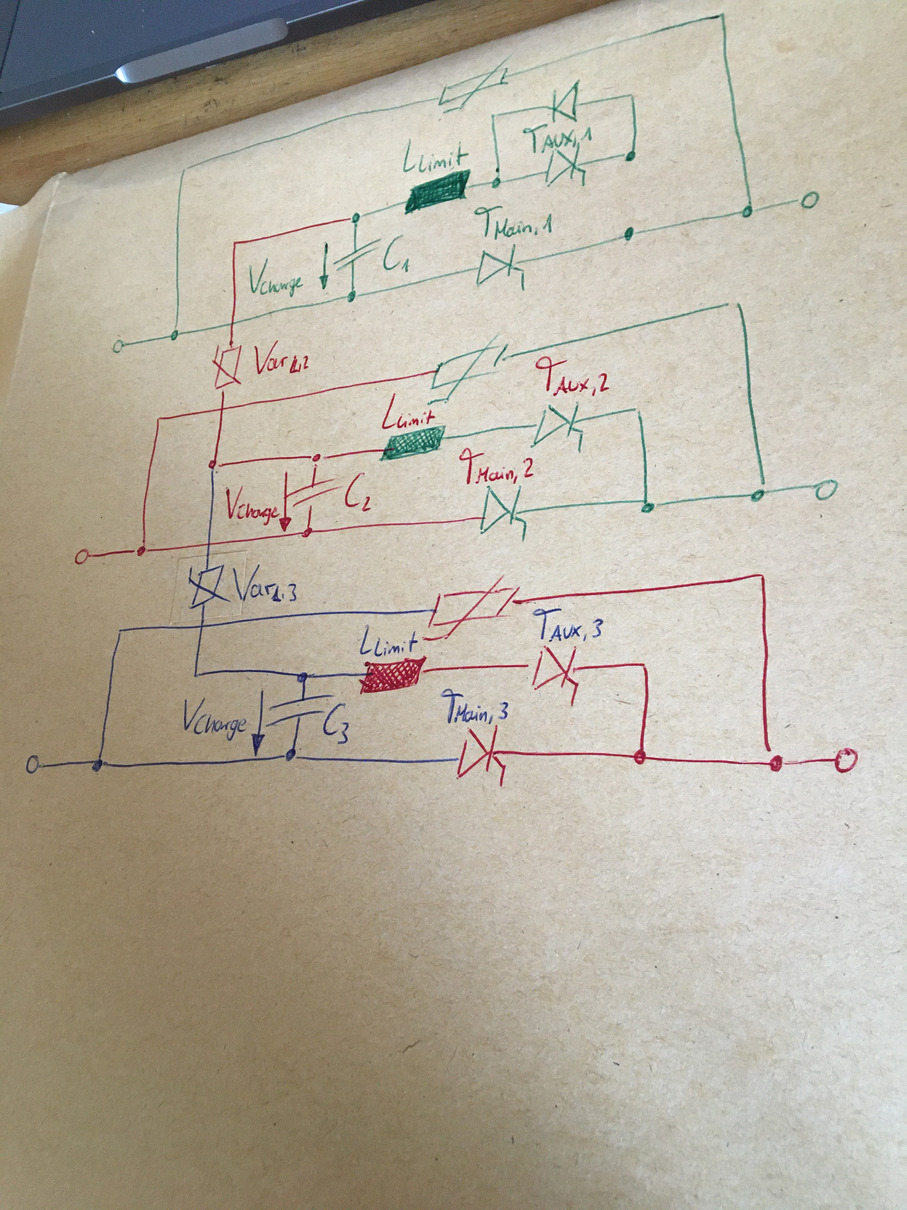capacitor.unpolarized: (265, 691, 334, 729), (332, 238, 382, 272), (287, 478, 340, 507)
crossover: (197, 621, 208, 632), (217, 404, 227, 414), (204, 539, 214, 549), (227, 319, 238, 328)
diode: (549, 78, 579, 124)
inductor: (403, 168, 472, 216), (358, 655, 428, 696), (379, 424, 447, 463)
junction: (763, 747, 787, 773), (750, 481, 769, 505), (638, 495, 657, 515), (726, 297, 747, 314), (632, 746, 649, 766), (740, 202, 757, 220), (309, 451, 328, 467), (622, 147, 639, 164), (132, 543, 150, 558), (90, 757, 106, 773), (207, 457, 224, 472), (168, 325, 182, 343), (283, 747, 299, 762), (490, 174, 503, 192), (640, 658, 654, 674), (299, 525, 315, 539), (346, 288, 359, 305), (348, 210, 362, 225), (756, 568, 770, 582), (631, 403, 645, 417), (296, 670, 311, 683), (716, 9, 729, 22), (180, 164, 192, 176), (626, 90, 638, 102), (489, 109, 501, 121), (191, 669, 202, 680), (230, 237, 240, 248), (154, 414, 165, 424), (116, 625, 126, 635)
terminal: (831, 746, 860, 776), (812, 478, 840, 502), (794, 189, 821, 211), (24, 753, 42, 776), (73, 547, 91, 566), (111, 338, 127, 355)
text: (533, 354, 612, 399), (230, 561, 301, 607), (180, 695, 248, 743), (473, 203, 555, 242), (457, 446, 536, 485), (531, 605, 605, 644), (439, 686, 510, 726), (223, 482, 282, 528), (246, 256, 306, 299), (400, 137, 469, 174), (522, 122, 593, 156), (250, 339, 312, 376), (357, 623, 419, 658), (380, 391, 436, 429), (342, 470, 375, 514), (321, 701, 351, 746), (382, 233, 413, 275)
thyristor: (455, 724, 508, 780), (527, 644, 581, 693), (532, 401, 585, 448), (479, 485, 528, 535), (476, 243, 526, 286), (544, 147, 588, 186)
varistor: (422, 574, 521, 642), (427, 333, 509, 406), (438, 56, 509, 113), (187, 563, 232, 610), (211, 344, 244, 393)
